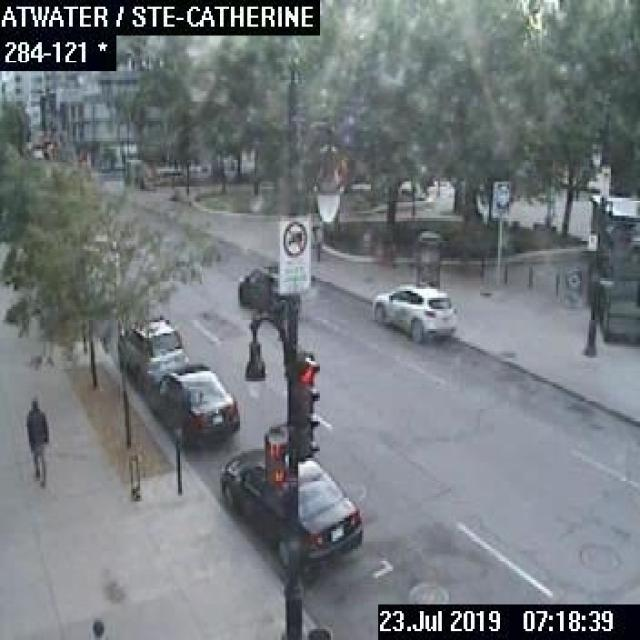pedestrian: (22, 389, 47, 487)
vehicle: (218, 448, 360, 576), (152, 363, 238, 449), (116, 317, 188, 391), (372, 283, 458, 340), (236, 264, 300, 315)
